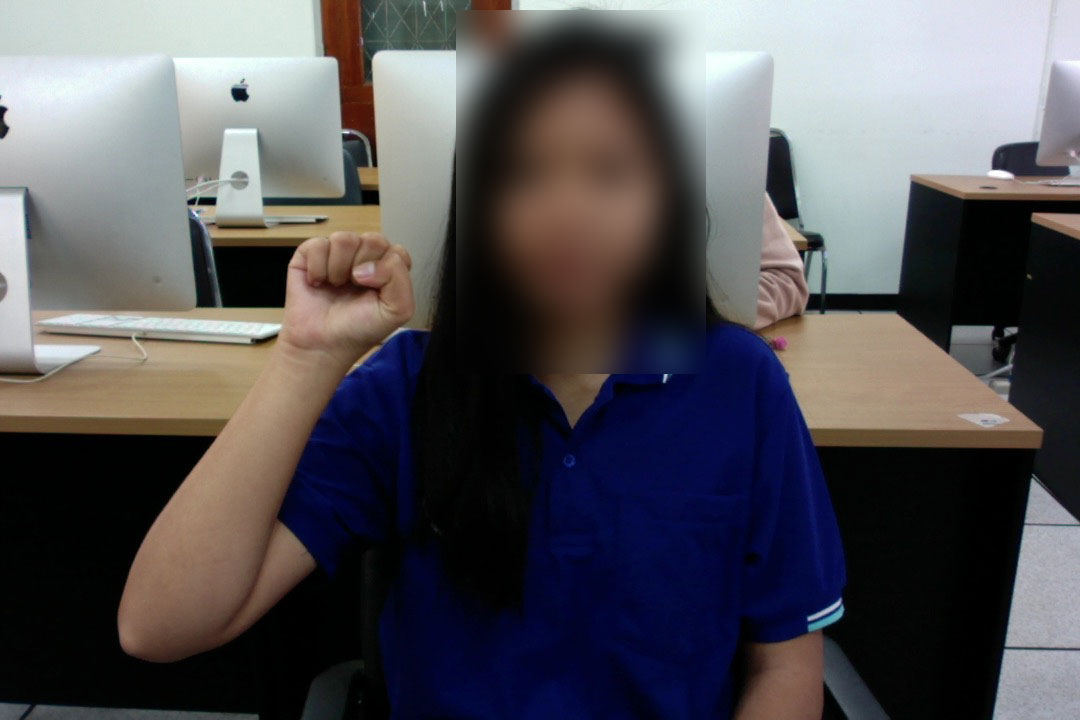sor: (278, 224, 421, 377)
